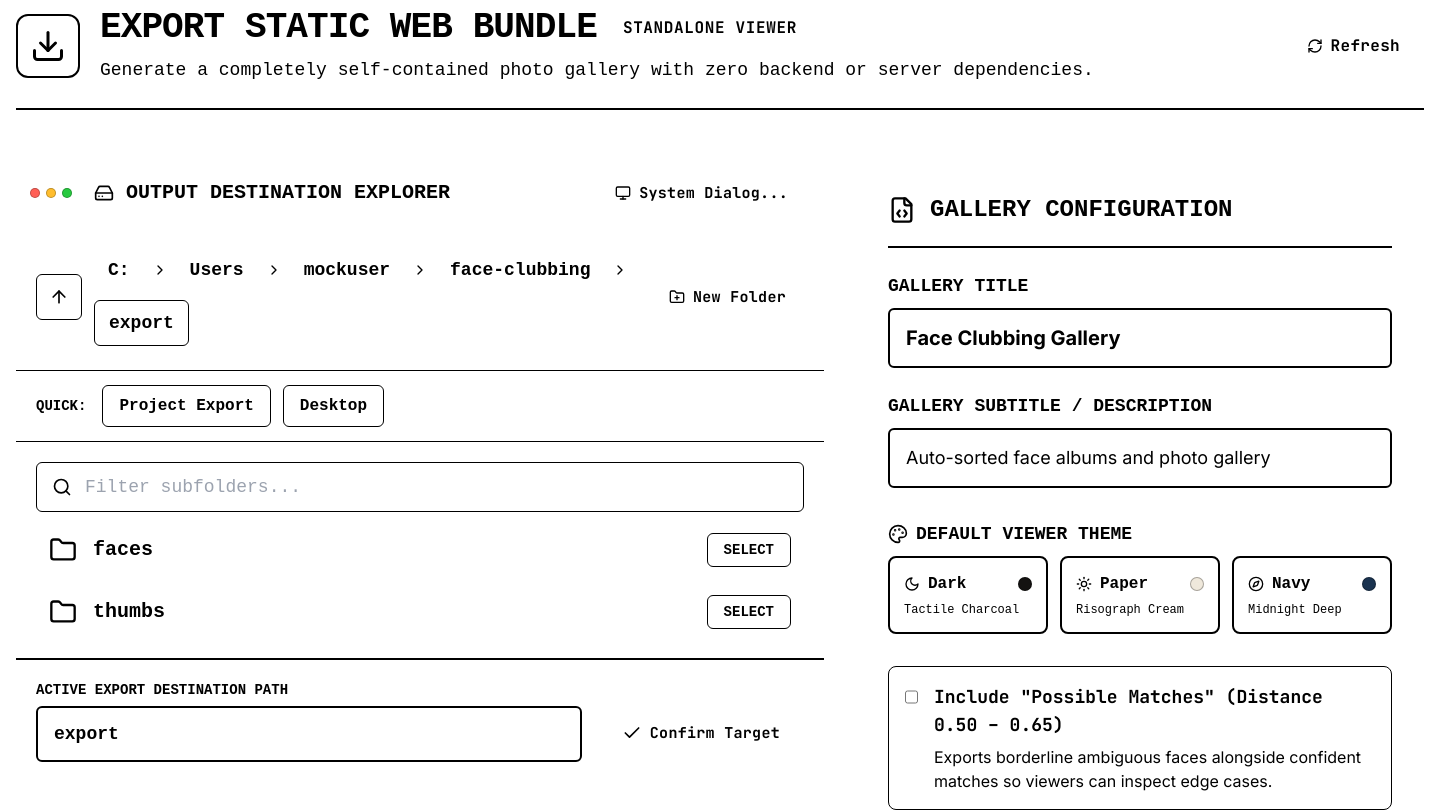
ExportScreen Component › filters directory listing in file explorer
Expected: the text "faces" is shown, [93, 536, 153, 564]
Expected: the text "thumbs" is shown, [93, 598, 165, 626]
Type "fac" into the field with placeholder "Filter subfolders..." at (420, 487), box [36, 462, 804, 512]
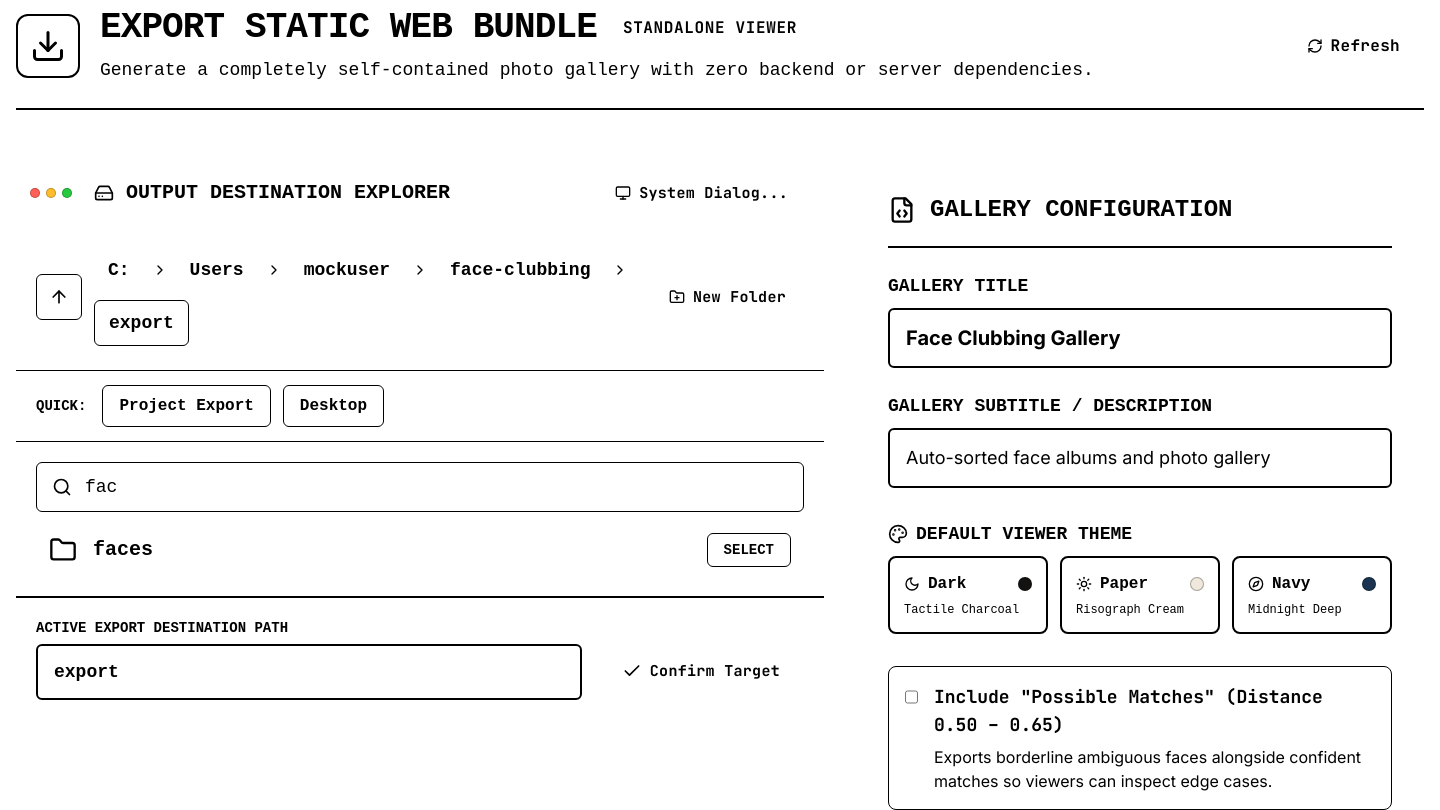
Expected: the text "faces" is shown, [93, 536, 153, 564]
Expected: the text "thumbs" is gone
